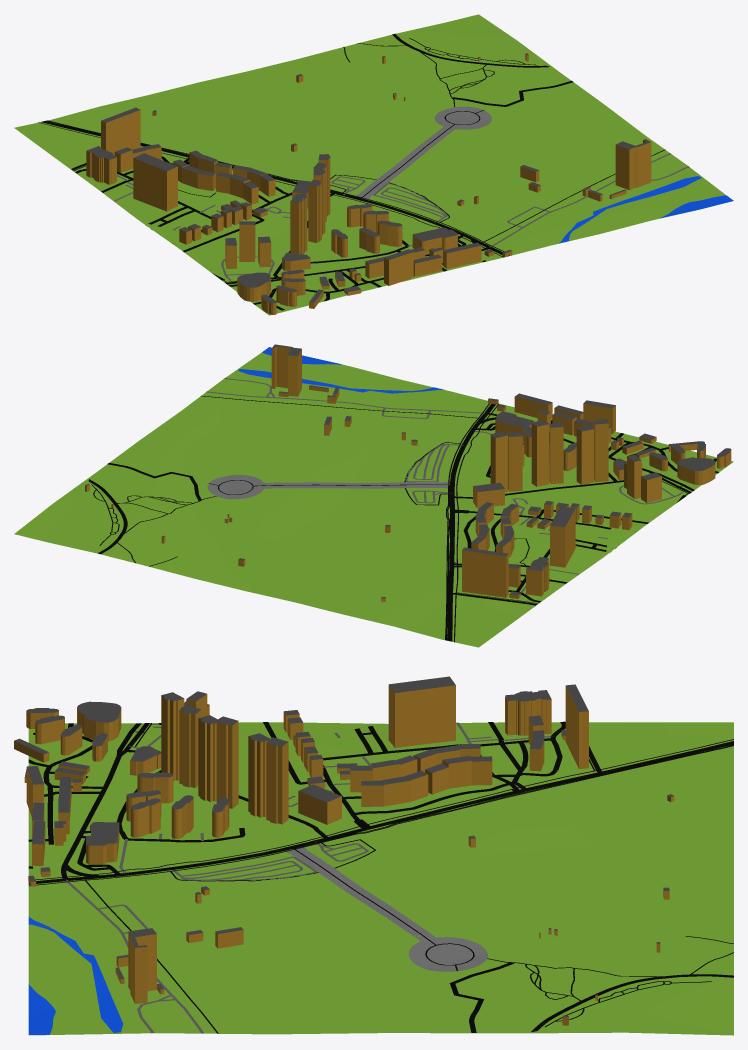
The model's file is tile_07_01.glb.
The picture shows the model from 3 angles, top to bottom: view 1: azimuth 30°, elevation 25°; view 2: azimuth 150°, elevation 25°; view 3: azimuth 270°, elevation 25°; orthographic projection. The views are drawn at different scales.
Parts seen in each view (by area): view 1: Terrain_07_01, Ub_small.osm_buildings_07_01, Ub_small.osm_areas_pedestrian_07_01, Ub_small.osm_roads_residential_07_01, Ub_small.osm_roads_service_07_01, Ub_small.osm_paths_footway_07_01, Ub_small.osm_water_07_01, Ub_small.osm_roads_primary_07_01, Ub_small.osm_paths_cycleway_07_01, Ub_small.osm_roads_unclassified_07_01; view 2: Terrain_07_01, Ub_small.osm_buildings_07_01, Ub_small.osm_areas_pedestrian_07_01, Ub_small.osm_roads_residential_07_01, Ub_small.osm_paths_footway_07_01, Ub_small.osm_roads_service_07_01, Ub_small.osm_roads_primary_07_01, Ub_small.osm_paths_cycleway_07_01, Ub_small.osm_water_07_01, Ub_small.osm_roads_unclassified_07_01; view 3: Terrain_07_01, Ub_small.osm_buildings_07_01, Ub_small.osm_roads_residential_07_01, Ub_small.osm_areas_pedestrian_07_01, Ub_small.osm_paths_footway_07_01, Ub_small.osm_roads_service_07_01, Ub_small.osm_roads_primary_07_01, Ub_small.osm_water_07_01, Ub_small.osm_paths_cycleway_07_01, Ub_small.osm_roads_unclassified_07_01, Ub_small.osm_roads_tertiary_07_01.
Boxes of the visible parts, left/top/right/bottom form: Terrain_07_01: left=14, top=14, right=731, bottom=315; Ub_small.osm_buildings_07_01: left=86, top=53, right=651, bottom=314; Ub_small.osm_areas_pedestrian_07_01: left=356, top=106, right=491, bottom=199; Ub_small.osm_roads_residential_07_01: left=71, top=156, right=486, bottom=310; Ub_small.osm_roads_service_07_01: left=114, top=153, right=689, bottom=280; Ub_small.osm_paths_footway_07_01: left=38, top=38, right=537, bottom=282; Ub_small.osm_water_07_01: left=559, top=176, right=733, bottom=243; Ub_small.osm_roads_primary_07_01: left=41, top=121, right=509, bottom=256; Ub_small.osm_paths_cycleway_07_01: left=47, top=120, right=665, bottom=255; Ub_small.osm_roads_unclassified_07_01: left=392, top=34, right=573, bottom=106; Terrain_07_01: left=14, top=352, right=733, bottom=647; Ub_small.osm_buildings_07_01: left=85, top=344, right=731, bottom=602; Ub_small.osm_areas_pedestrian_07_01: left=207, top=475, right=448, bottom=499; Ub_small.osm_roads_residential_07_01: left=451, top=420, right=719, bottom=605; Ub_small.osm_paths_footway_07_01: left=91, top=403, right=689, bottom=642; Ub_small.osm_roads_service_07_01: left=206, top=377, right=682, bottom=592; Ub_small.osm_roads_primary_07_01: left=447, top=404, right=496, bottom=641; Ub_small.osm_paths_cycleway_07_01: left=201, top=395, right=489, bottom=640; Ub_small.osm_water_07_01: left=238, top=347, right=444, bottom=393; Ub_small.osm_roads_unclassified_07_01: left=88, top=463, right=201, bottom=554; Terrain_07_01: left=28, top=722, right=733, bottom=1035; Ub_small.osm_buildings_07_01: left=14, top=676, right=674, bottom=1025; Ub_small.osm_roads_residential_07_01: left=28, top=721, right=601, bottom=875; Ub_small.osm_areas_pedestrian_07_01: left=286, top=847, right=487, bottom=971; Ub_small.osm_paths_footway_07_01: left=36, top=723, right=733, bottom=1027; Ub_small.osm_roads_service_07_01: left=66, top=722, right=553, bottom=1033; Ub_small.osm_roads_primary_07_01: left=28, top=741, right=733, bottom=884; Ub_small.osm_water_07_01: left=28, top=917, right=123, bottom=1034; Ub_small.osm_paths_cycleway_07_01: left=29, top=745, right=733, bottom=1033; Ub_small.osm_roads_unclassified_07_01: left=449, top=962, right=733, bottom=1032; Ub_small.osm_roads_tertiary_07_01: left=61, top=723, right=149, bottom=879.
Size of the model in its own units: 984 by 123 by 949.
